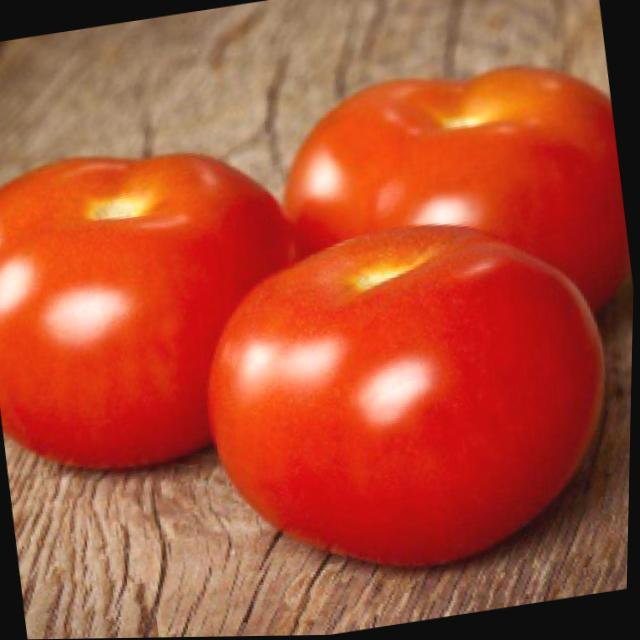tomato: (187, 199, 636, 601), (0, 126, 328, 490), (268, 51, 639, 361)
